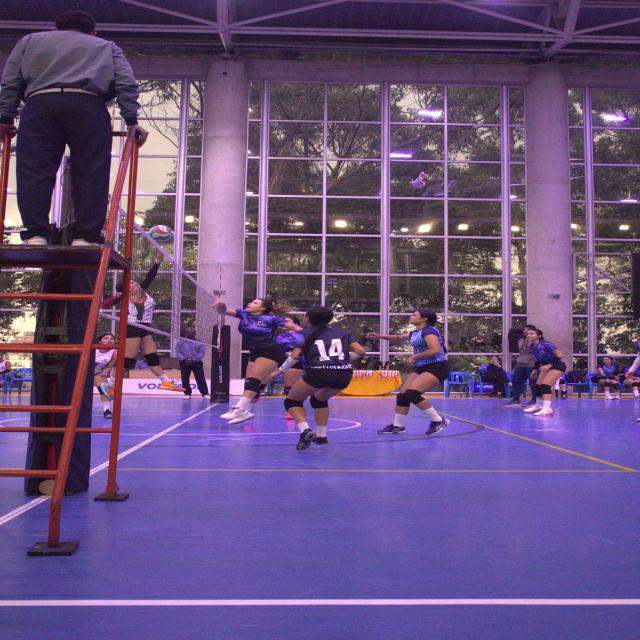volleyball: (150, 225, 172, 242)
